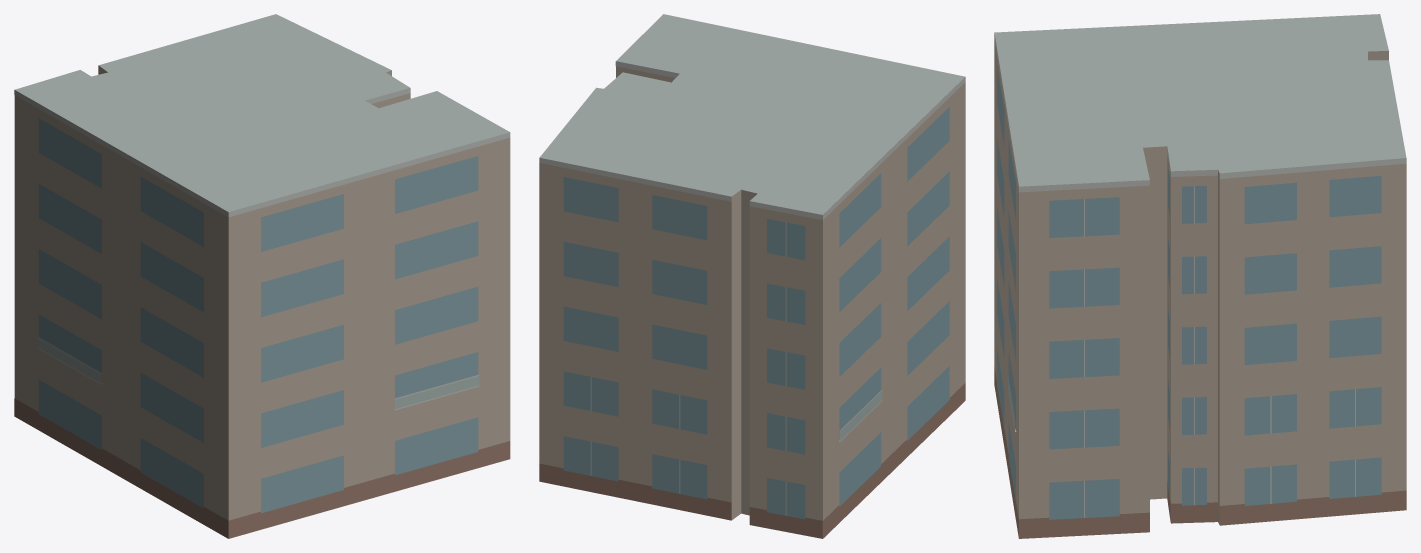
File: survey-upis-32494085.glb
3 views of the same model, side by side, from view 1: azimuth 30°, elevation 25°; view 2: azimuth 150°, elevation 25°; view 3: azimuth 270°, elevation 25° (orthographic). The views are drawn at different scales.
Parts seen in each view (by area): view 1: survey-upis-32494085.tmp; view 2: survey-upis-32494085.tmp; view 3: survey-upis-32494085.tmp.
Boxes of the visible parts, <box> form: survey-upis-32494085.tmp: <box>14,14,510,538</box>; survey-upis-32494085.tmp: <box>539,14,965,538</box>; survey-upis-32494085.tmp: <box>994,14,1406,538</box>.
Size of the model in its own units: 16.05 by 15.25 by 16.18.
